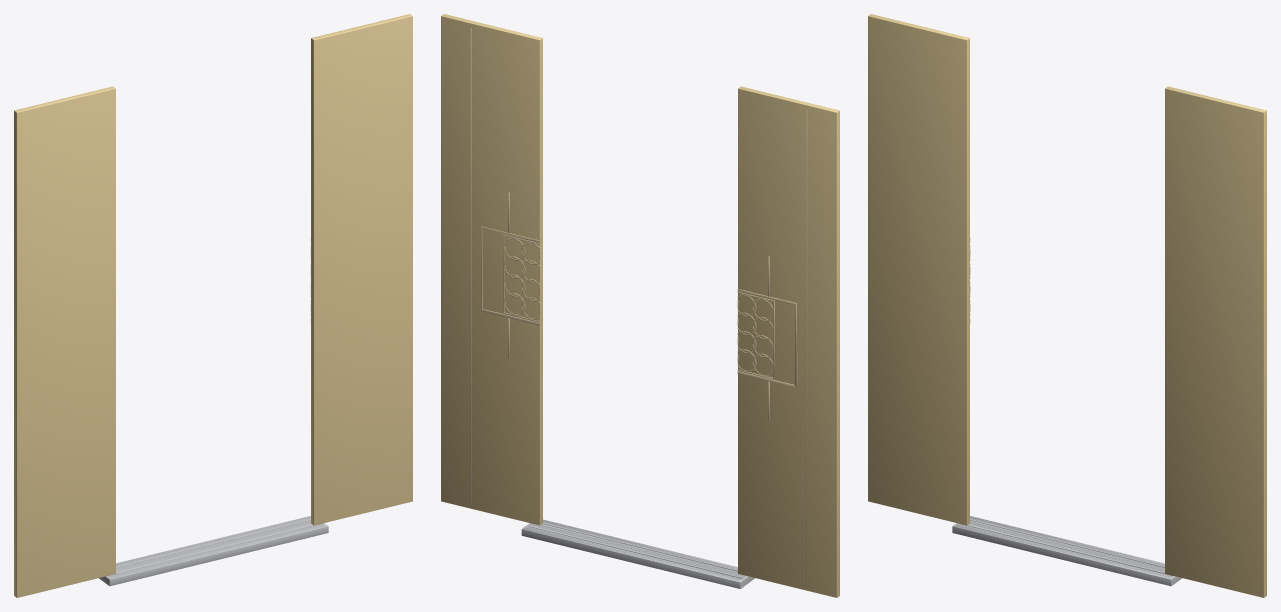
The model's file is cabin_door_TM019.glb.
3 views of the same model, side by side, from view 1: azimuth 30°, elevation 25°; view 2: azimuth 150°, elevation 25°; view 3: azimuth 330°, elevation 25° (orthographic).
Parts seen in each view (by area): view 1: Car_Door_R, Car_Door_L, Door_Sill; view 2: Car_Door_L, Car_Door_R, Door_Sill; view 3: Car_Door_L, Car_Door_R, Door_Sill.
Part boxes in pixels (<box>): Car_Door_R: <box>310,14,412,525</box>; Car_Door_L: <box>14,86,115,597</box>; Door_Sill: <box>98,516,328,586</box>; Car_Door_L: <box>737,86,839,597</box>; Car_Door_R: <box>441,14,542,525</box>; Door_Sill: <box>521,519,754,588</box>; Car_Door_L: <box>868,14,970,525</box>; Car_Door_R: <box>1165,86,1266,597</box>; Door_Sill: <box>952,516,1182,586</box>.
Bounding box in the file's own units: 1.81 × 2.15 × 0.12.
